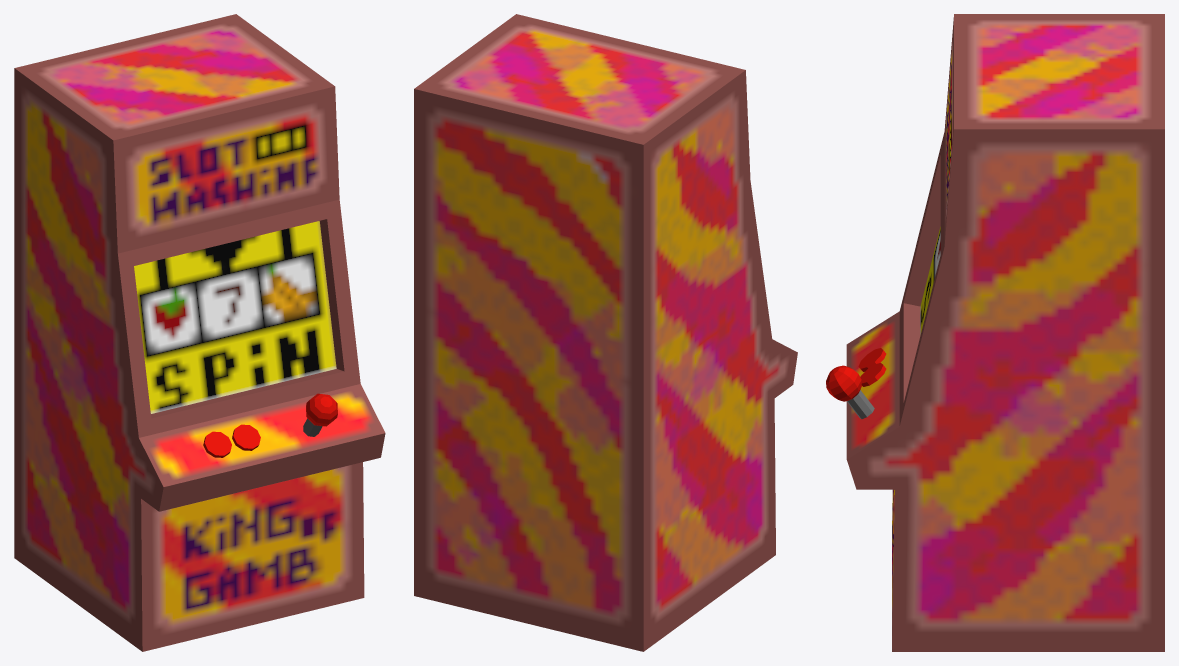
The model's file is Slot-Mashine.fbx.
3 renders of one model, left to right at view 1: azimuth 30°, elevation 25°; view 2: azimuth 150°, elevation 25°; view 3: azimuth 270°, elevation 25°, orthographic. The views are drawn at different scales.
Parts seen in each view (by area): view 1: Cube; view 2: Cube; view 3: Cube.
Boxes of the visible parts, box(x1,y1,x2,y2) form: Cube: box(14, 14, 385, 651); Cube: box(414, 14, 797, 651); Cube: box(826, 14, 1164, 651).
Size of the model in its own units: 0.9 by 1.9 by 1.12.
